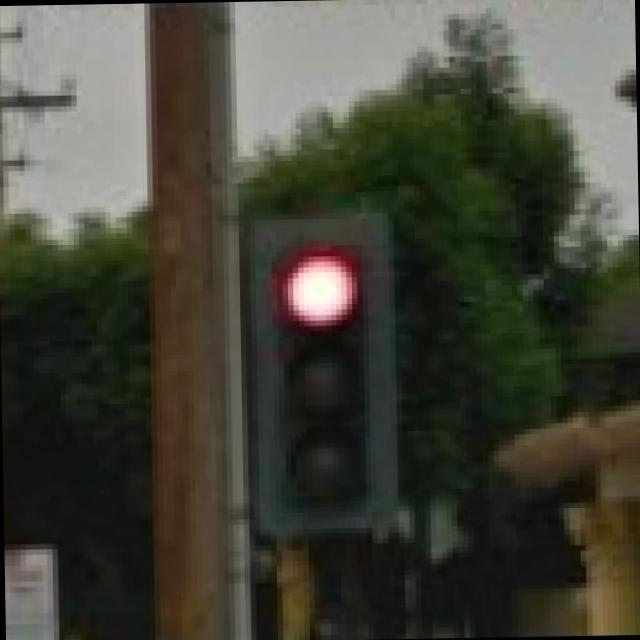red-lights: (254, 208, 379, 330)
